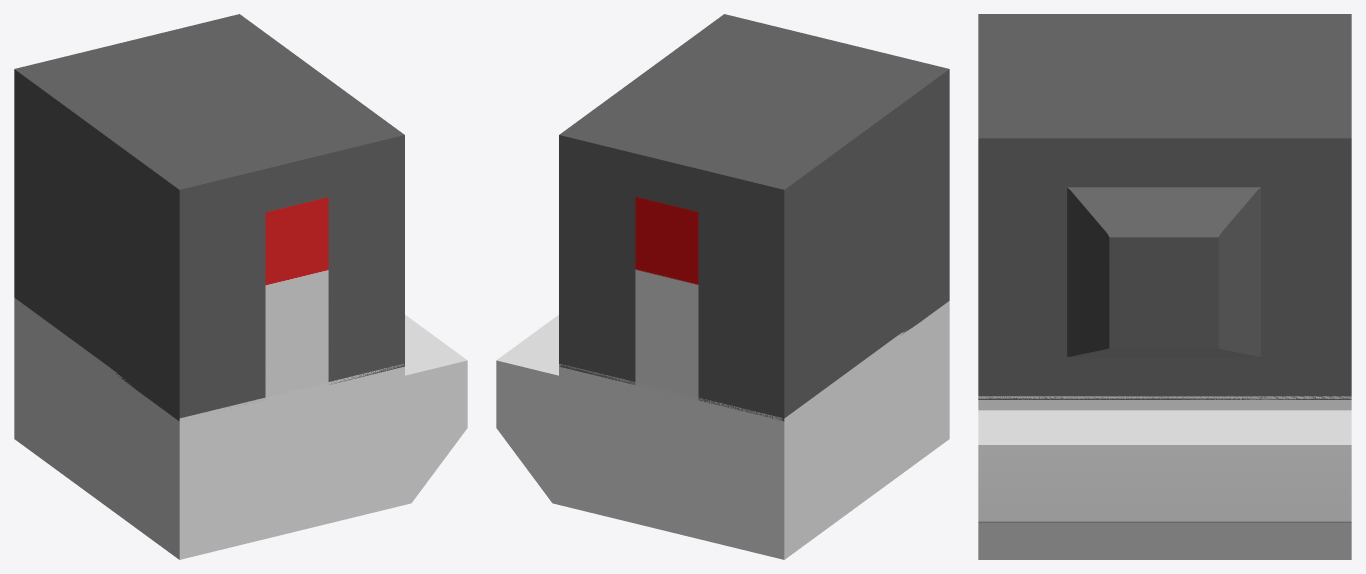
The model's file is Gate_1stack.fbx.
3 views of the same model, side by side, from view 1: azimuth 30°, elevation 25°; view 2: azimuth 150°, elevation 25°; view 3: azimuth 270°, elevation 25° (orthographic). The views are drawn at different scales.
Visible parts, largest first — view 1: Stack10, TopStack; view 2: Stack10, TopStack; view 3: Stack10, TopStack.
Boxes of the visible parts, x1=… form: Stack10: x1=14, y1=14, x2=404, y2=421; TopStack: x1=14, y1=298, x2=467, y2=559; Stack10: x1=559, y1=14, x2=949, y2=421; TopStack: x1=496, y1=301, x2=949, y2=559; Stack10: x1=978, y1=14, x2=1351, y2=399; TopStack: x1=978, y1=396, x2=1351, y2=559.
Bounding box in the file's own units: 0.7384 × 0.9062 × 0.7333.
